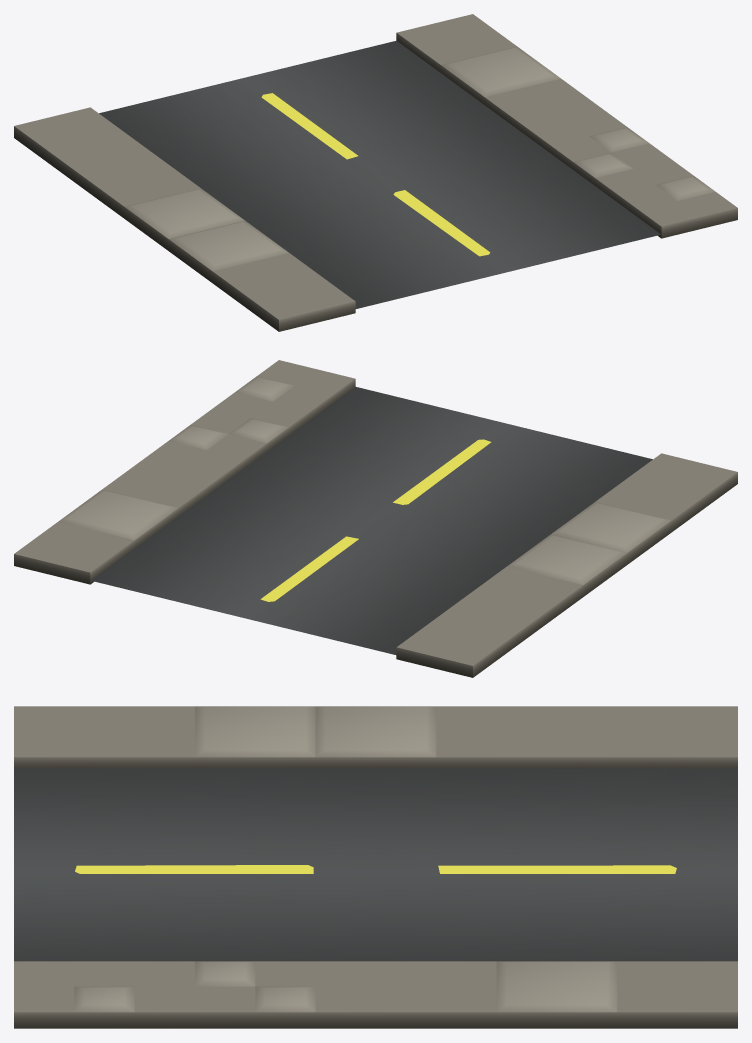
Rendered from Road_1B.fbx.
The picture shows the model from 3 angles, top to bottom: view 1: azimuth 30°, elevation 25°; view 2: azimuth 150°, elevation 25°; view 3: azimuth 270°, elevation 25°; orthographic projection. The views are drawn at different scales.
Visible parts, largest first — view 1: Road_1B; view 2: Road_1B; view 3: Road_1B.
Part boxes in pixels (x1,y1,x2,y2): Road_1B: (14,14,737,331); Road_1B: (14,360,737,677); Road_1B: (14,706,737,1028).
Size of the model in its own units: 12 by 0.3565 by 12.
